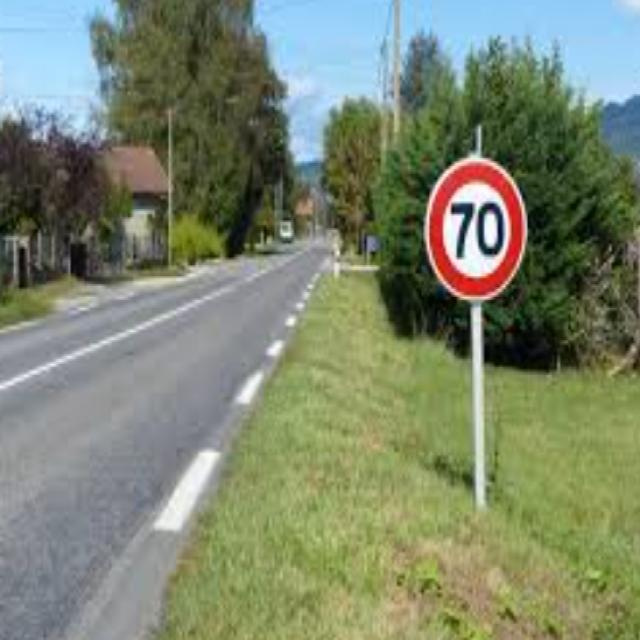speed_70: (422, 155, 528, 303)
